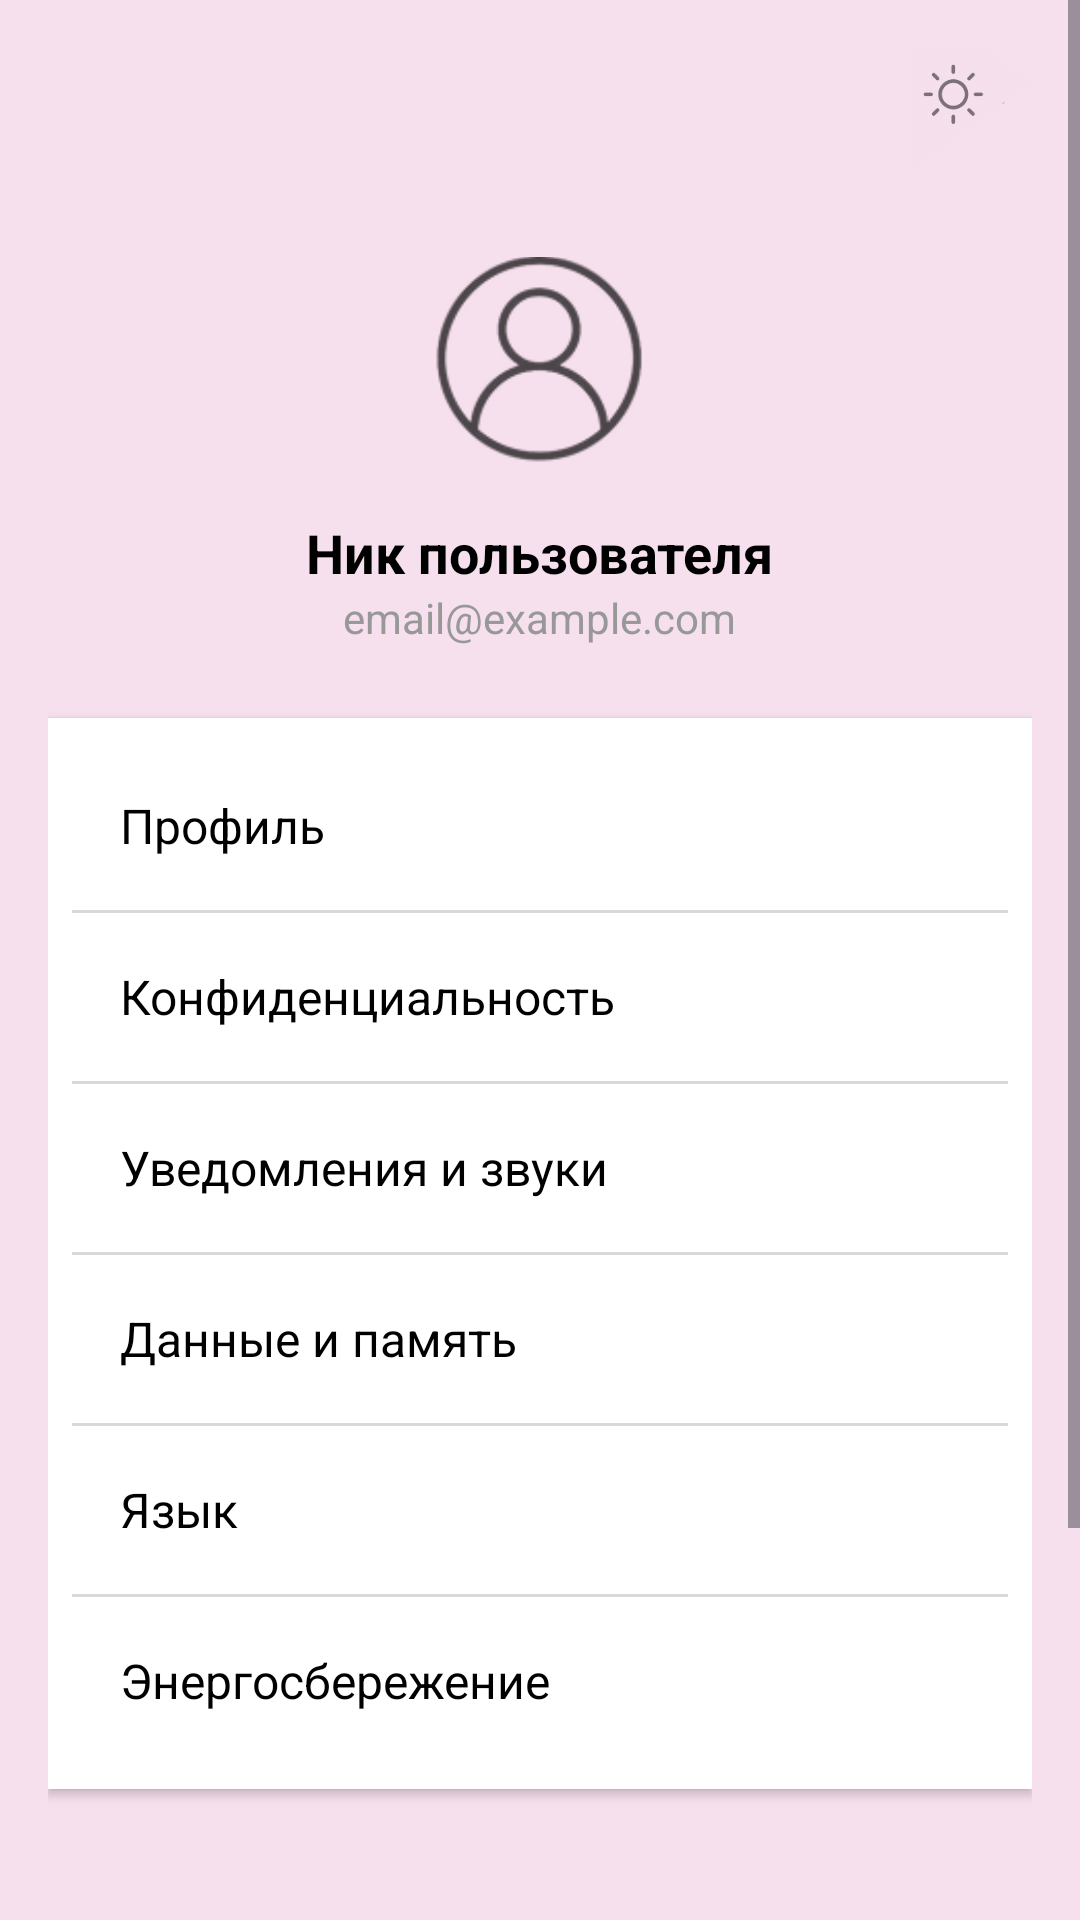

Where icons sit on this 1080*1920 app screen, as Rect(x1, y1, x2, y2):
profile: Rect(436, 257, 642, 462)
